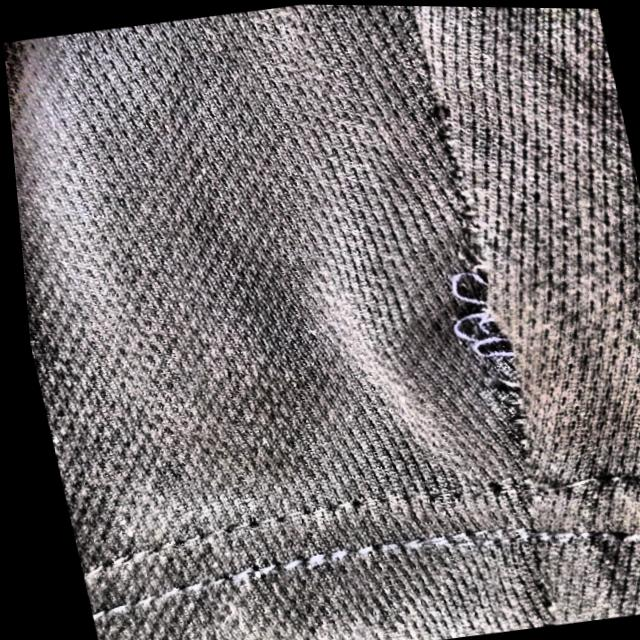Stitch: (419, 256, 531, 419)
